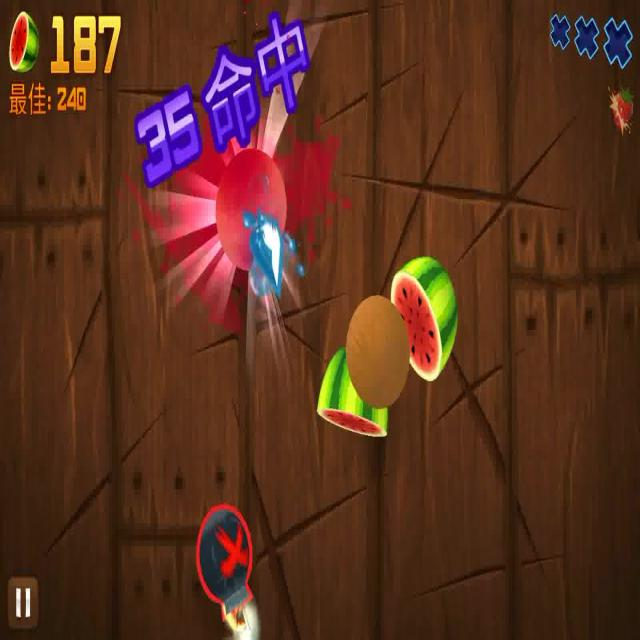bomb: (194, 493, 270, 640)
fruit: (199, 134, 290, 280), (386, 254, 461, 382), (346, 294, 409, 408), (316, 348, 392, 440)
